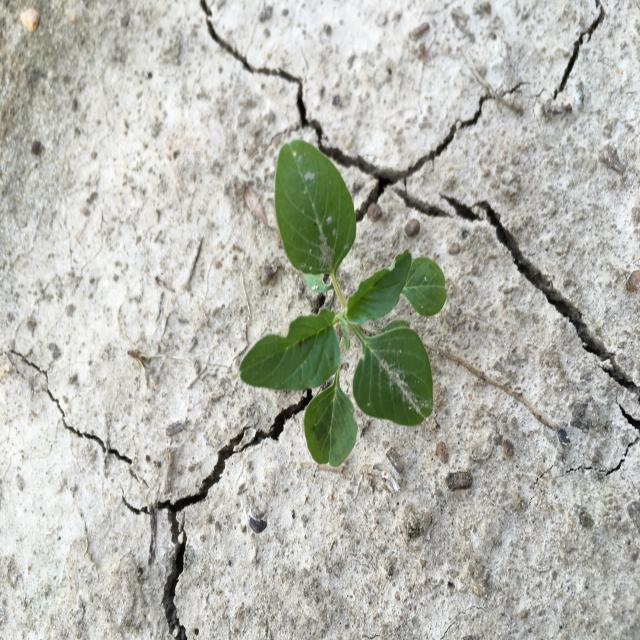PalmerAmaranth: (239, 138, 448, 470)
